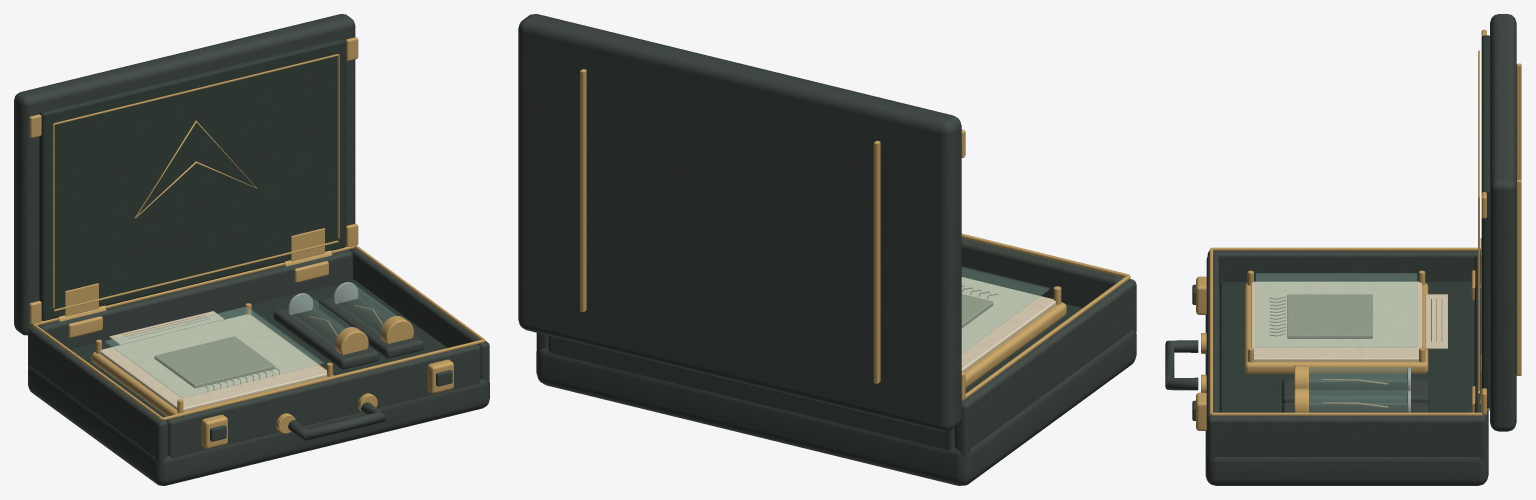
File: evidence-case.glb
3 renders of one model, left to right at view 1: azimuth 30°, elevation 25°; view 2: azimuth 150°, elevation 25°; view 3: azimuth 270°, elevation 25°, orthographic. The views are drawn at different scales.
Parts seen in each view (by area): view 1: Lid_Inner_Felt, Open_Lid, Case_Base, Glass_Sample_Cover, Case_End_Wall, Sample_Card, Case_End_Wall.001, Case_Side_Wall, Case_Foam, Case_Side_Wall.001, Fabric_Sample, Vial_Foam_Cradle (+23 smaller); view 2: Open_Lid, Case_Base, Case_Side_Wall, Case_End_Wall.001, Case_End_Wall, Sample_Card, Glass_Sample_Cover, Rear_Lid_Rib, Sample_Frame, Rear_Lid_Rib.001, Case_Rim_Left, Case_Rim_Front (+2 smaller); view 3: Glass_Sample_Cover, Case_Side_Wall.001, Open_Lid, Case_Foam, Sample_Card, Case_Base, Case_Side_Wall, Fabric_Sample, Lid_Inner_Felt, Sample_Frame, Vial_Foam_Cradle, Evidence_Vial (+14 smaller).
Boxes of the visible parts, x1=… form: Lid_Inner_Felt: x1=39, y1=38, x2=345, y2=320; Open_Lid: x1=14, y1=14, x2=355, y2=335; Case_Base: x1=28, y1=366, x2=489, y2=485; Glass_Sample_Cover: x1=105, y1=306, x2=323, y2=397; Case_End_Wall: x1=166, y1=344, x2=480, y2=458; Sample_Card: x1=100, y1=314, x2=327, y2=411; Case_End_Wall.001: x1=38, y1=250, x2=352, y2=348; Case_Side_Wall: x1=28, y1=326, x2=167, y2=463; Case_Foam: x1=70, y1=280, x2=446, y2=417; Case_Side_Wall.001: x1=350, y1=248, x2=489, y2=383; Fabric_Sample: x1=154, y1=336, x2=274, y2=388; Vial_Foam_Cradle: x1=273, y1=305, x2=378, y2=369; Open_Lid: x1=518, y1=14, x2=961, y2=431; Case_Base: x1=536, y1=330, x2=1136, y2=485; Case_Side_Wall: x1=954, y1=279, x2=1136, y2=457; Case_End_Wall.001: x1=548, y1=335, x2=954, y2=449; Case_End_Wall: x1=961, y1=238, x2=1123, y2=307; Sample_Card: x1=961, y1=277, x2=1055, y2=371; Glass_Sample_Cover: x1=962, y1=266, x2=1049, y2=353; Rear_Lid_Rib: x1=873, y1=140, x2=880, y2=383; Sample_Frame: x1=964, y1=302, x2=1066, y2=388; Rear_Lid_Rib.001: x1=580, y1=69, x2=586, y2=312; Case_Rim_Left: x1=962, y1=275, x2=1130, y2=400; Case_Rim_Front: x1=961, y1=233, x2=1129, y2=277; Glass_Sample_Cover: x1=1256, y1=273, x2=1416, y2=347; Case_Side_Wall.001: x1=1207, y1=415, x2=1486, y2=461; Open_Lid: x1=1490, y1=14, x2=1516, y2=431; Case_Foam: x1=1220, y1=282, x2=1474, y2=412; Sample_Card: x1=1251, y1=281, x2=1421, y2=361; Case_Base: x1=1205, y1=287, x2=1488, y2=485; Case_Side_Wall: x1=1207, y1=251, x2=1480, y2=287; Fabric_Sample: x1=1287, y1=294, x2=1372, y2=338; Lid_Inner_Felt: x1=1481, y1=35, x2=1489, y2=408; Sample_Frame: x1=1244, y1=283, x2=1428, y2=373; Vial_Foam_Cradle: x1=1282, y1=379, x2=1428, y2=404; Evidence_Vial: x1=1309, y1=367, x2=1407, y2=390.
Size of the model in its own units: 0.385 by 0.3205 by 0.3377.
Materials: 7 (4 with a texture image).
